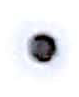cancer: (5, 13, 74, 83)
